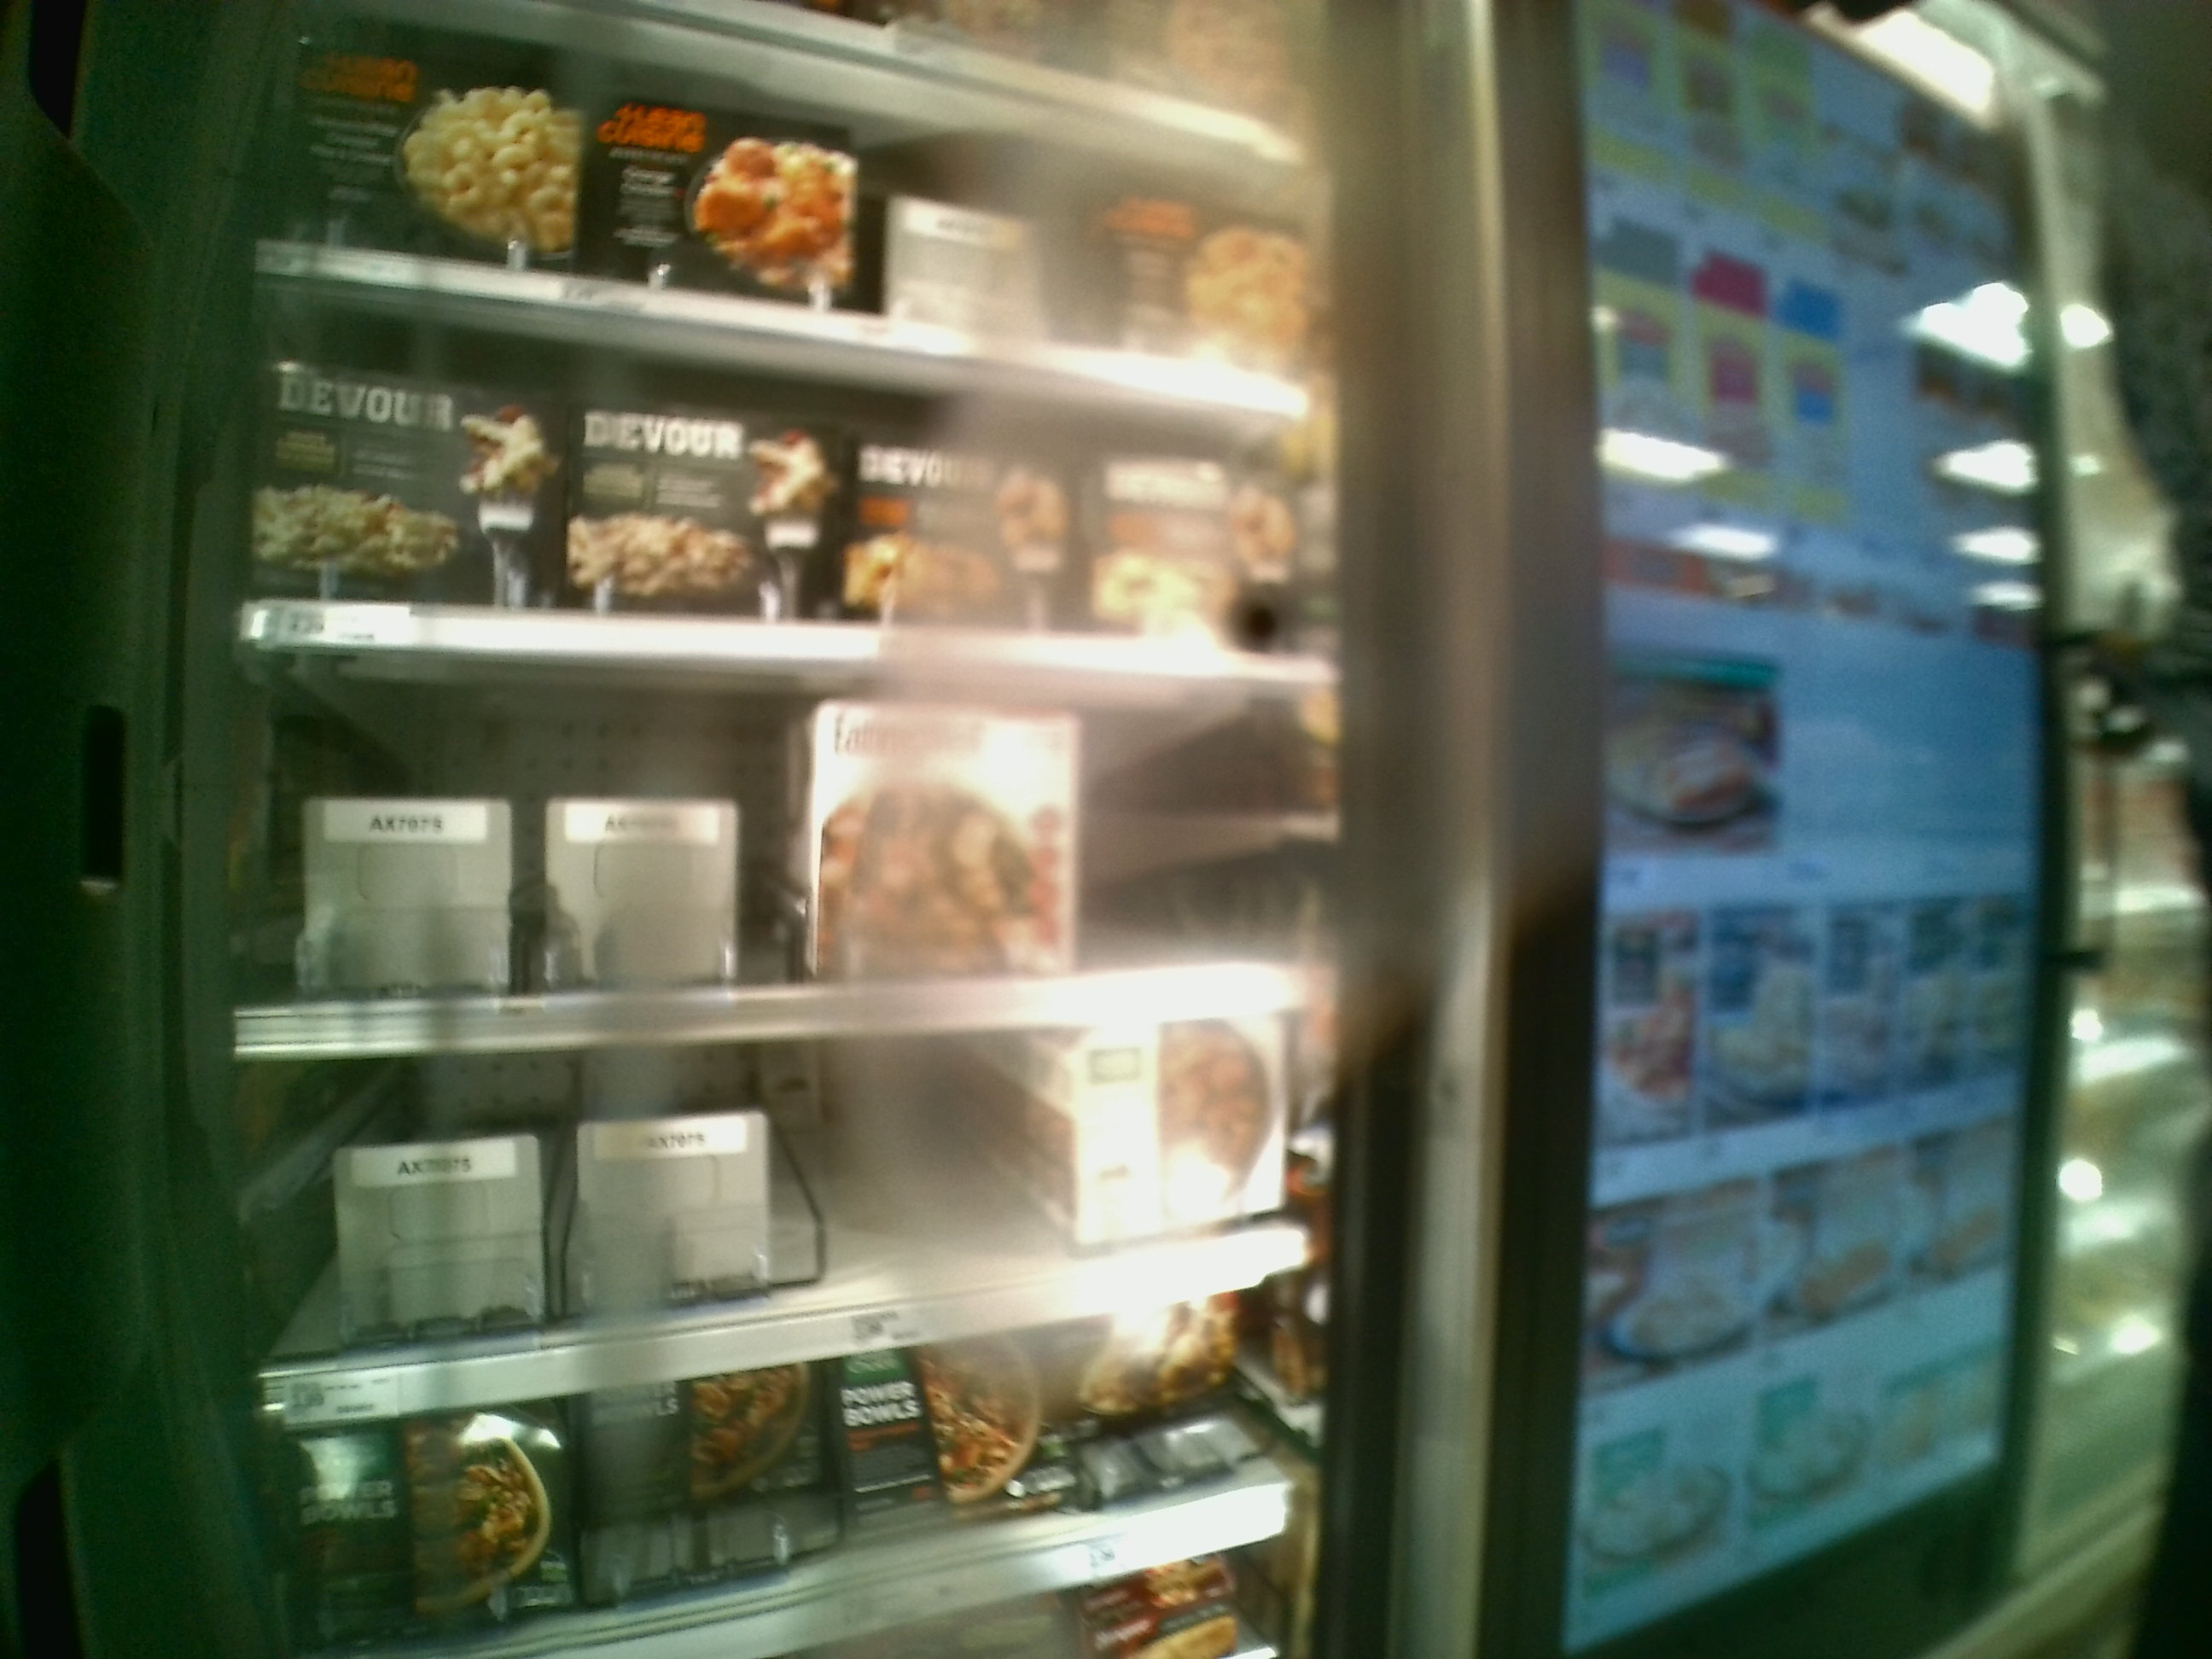Shelf: (223, 647, 1339, 1049)
